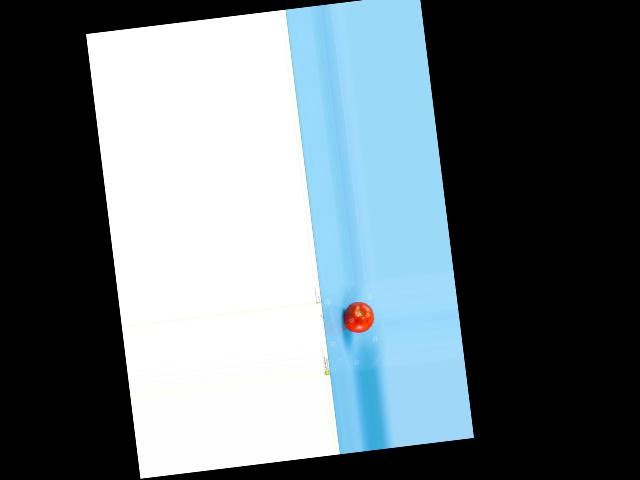tomato: (342, 299, 375, 334)
